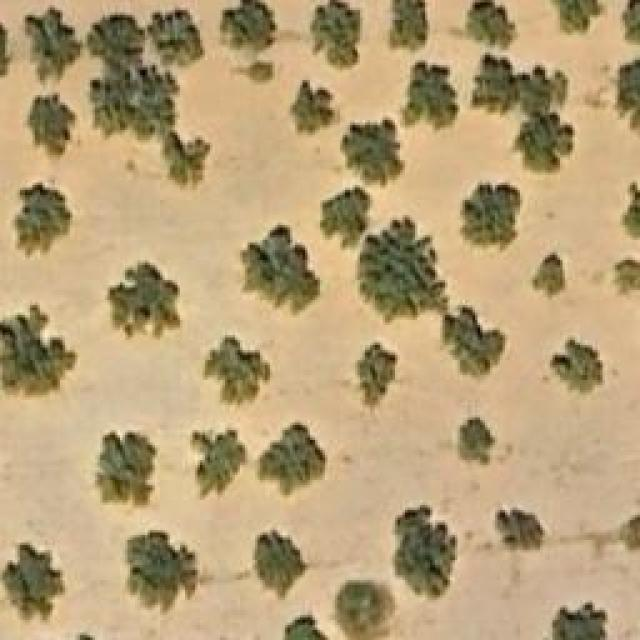Tree: (243, 223, 323, 316), (0, 303, 78, 398), (363, 227, 443, 315), (393, 505, 458, 600), (105, 262, 183, 340), (93, 75, 178, 138), (477, 57, 565, 115), (257, 423, 325, 498), (0, 545, 65, 623), (202, 338, 270, 408), (13, 185, 78, 258), (187, 422, 245, 500), (98, 430, 158, 505), (458, 185, 523, 250), (343, 117, 403, 185), (23, 93, 78, 166), (443, 308, 503, 373), (133, 533, 196, 593), (405, 62, 458, 130), (25, 7, 78, 75), (335, 580, 395, 640), (88, 10, 148, 70), (310, 0, 360, 68), (158, 132, 213, 190), (255, 530, 305, 593), (550, 337, 603, 395), (148, 10, 203, 65), (465, 0, 518, 51), (288, 77, 333, 135), (520, 115, 565, 173), (223, 0, 276, 48), (358, 343, 398, 403), (323, 188, 368, 241), (387, 0, 427, 52), (555, 602, 608, 640), (495, 510, 543, 548), (458, 415, 493, 465), (530, 250, 565, 300), (617, 57, 640, 132), (552, 0, 602, 32), (610, 258, 640, 298), (622, 180, 640, 245), (285, 615, 330, 640), (622, 0, 640, 55), (243, 60, 276, 88)
